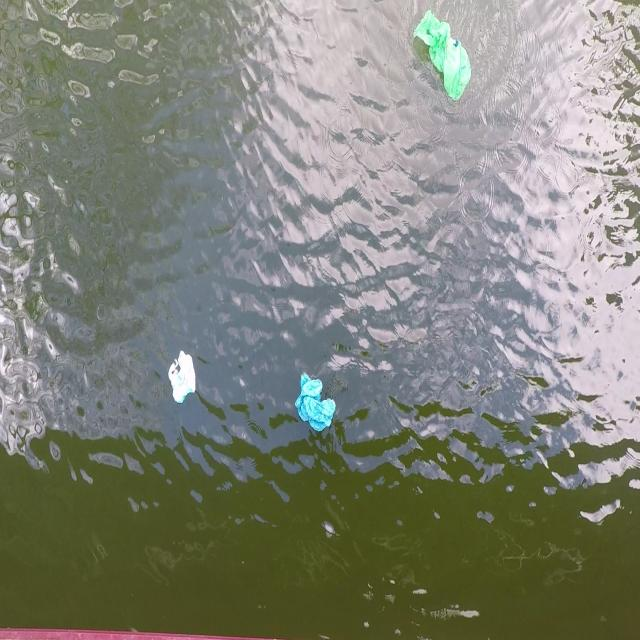Sac plastique: (168, 350, 198, 407)
